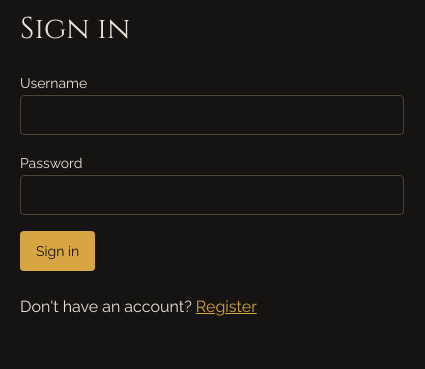
Scenario: shows invalid credentials on 401
In the field labelled "Username": (212, 115) [20,95,404,135], type "alice"
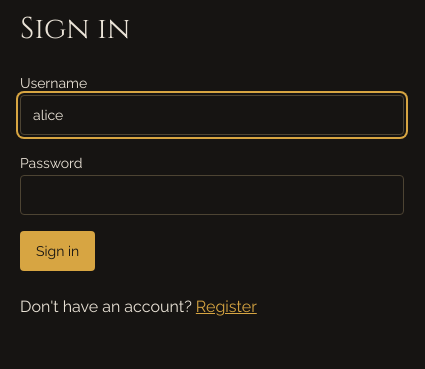
In the password field labelled "Password": (212, 195) [20,175,404,215], type "wrong"
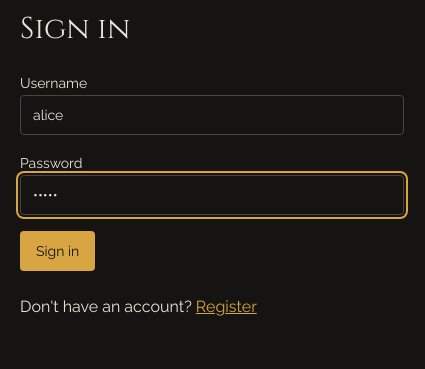
Click the button "Sign in": (58, 251) [20,231,95,271]
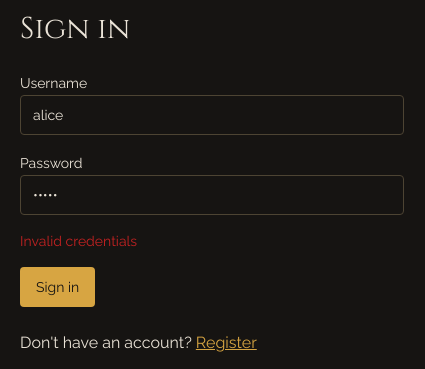
Expected: the text "Invalid credentials" is shown, [20,233,137,249]
